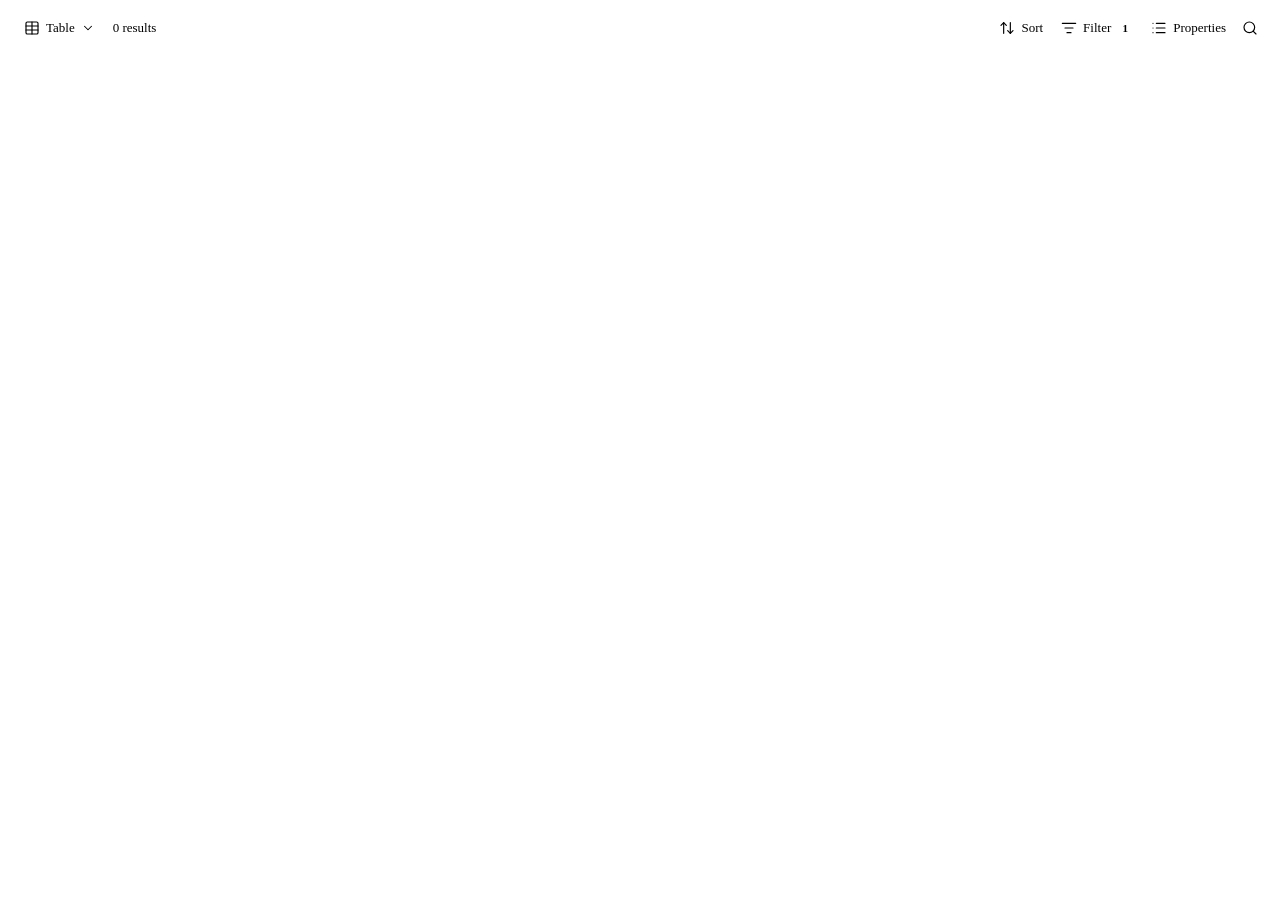
it: Filter popover rows (#617) › starts with only the type picker and + filter
Click the button "Filter 1" at (1097, 28), box [1053,14,1141,42]
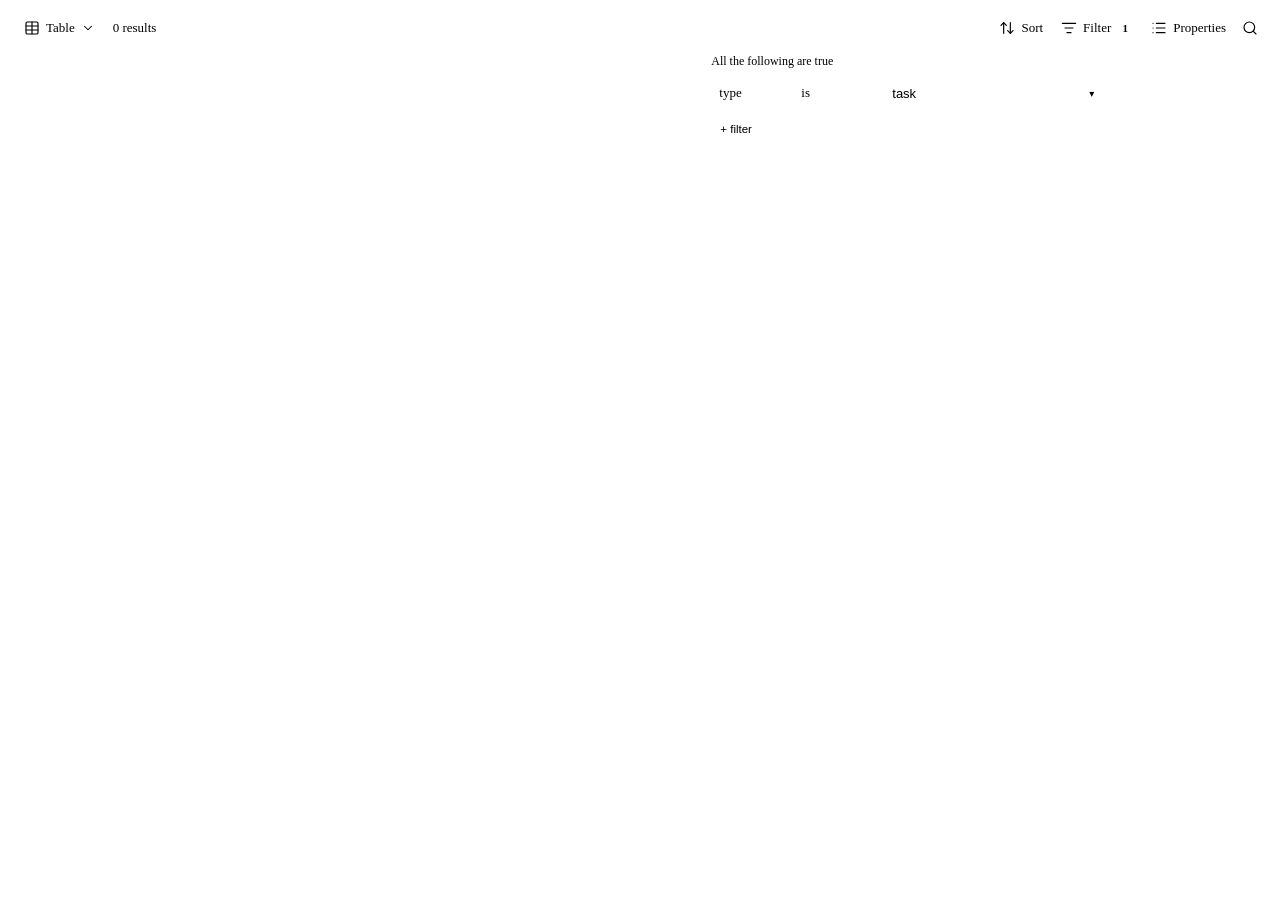
Check: the button "+ filter" is shown, box [711,117,761,141]
